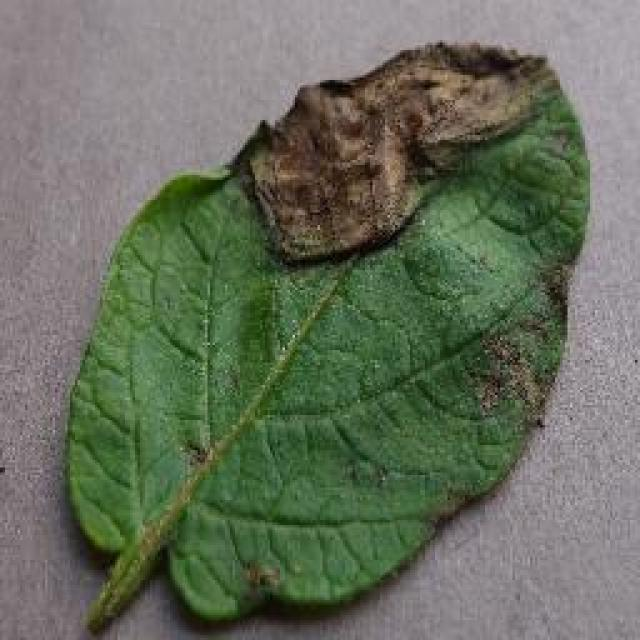late_blight: (57, 38, 595, 630)
